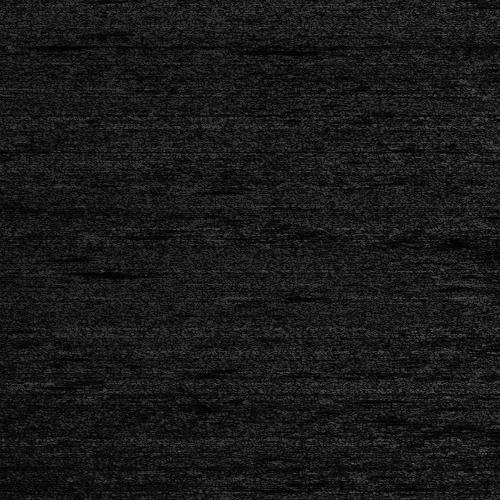rock: (441, 275, 500, 284), (431, 293, 500, 300), (18, 266, 71, 275), (213, 46, 244, 49)
shadow: (45, 266, 133, 275), (229, 46, 322, 49), (478, 275, 500, 284), (473, 293, 500, 300)
